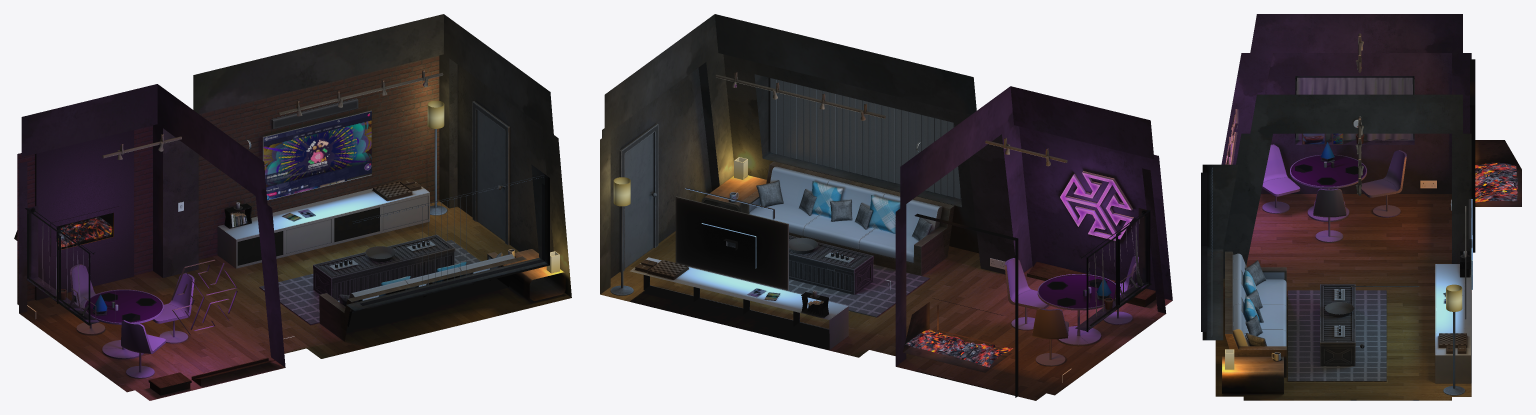
Rendered from StartHome.glb.
3 views of the same model, side by side, from view 1: azimuth 30°, elevation 25°; view 2: azimuth 150°, elevation 25°; view 3: azimuth 270°, elevation 25° (orthographic). The views are drawn at different scales.
Visible parts, largest first — view 1: WallsNEW_8, BrickFinal_17, Floor_New_7, Seat_1, Electrics_2, FinalTable_20, Door_6, Chest_11, TableItemsF_19, Lights_3, PillowsNEW_5, Plane001_21 (+5 smaller); view 2: WallsNEW_8, Floor_New_7, Seat_1, Blinds_13, Electrics_2, FinalTable_20, Door_6, PillowsNEW_5, BrickFinal_17, Lights_3, Chest_11, Chimney_18 (+5 smaller); view 3: WallsNEW_8, Floor_New_7, Seat_1, BrickFinal_17, FinalTable_20, Chimney_18, Curtain_14, Chest_11, TableItemsF_19, PillowsNEW_5, Electrics_2, Lights_3 (+5 smaller).
Boxes of the visible parts, bbox=[...] form: WallsNEW_8: bbox=[19, 14, 571, 367]; BrickFinal_17: bbox=[17, 55, 480, 324]; Floor_New_7: bbox=[17, 201, 571, 400]; Seat_1: bbox=[217, 182, 565, 341]; Electrics_2: bbox=[27, 98, 447, 338]; FinalTable_20: bbox=[70, 264, 194, 378]; Door_6: bbox=[472, 101, 509, 245]; Chest_11: bbox=[313, 234, 455, 300]; TableItemsF_19: bbox=[25, 183, 544, 325]; Lights_3: bbox=[102, 70, 443, 335]; PillowsNEW_5: bbox=[148, 252, 502, 395]; Plane001_21: bbox=[56, 213, 113, 249]; WallsNEW_8: bbox=[600, 14, 1172, 366]; Floor_New_7: bbox=[600, 231, 1172, 400]; Seat_1: bbox=[630, 161, 954, 349]; Blinds_13: bbox=[770, 78, 961, 198]; Electrics_2: bbox=[610, 142, 1071, 382]; FinalTable_20: bbox=[1004, 256, 1138, 366]; Door_6: bbox=[619, 123, 658, 272]; PillowsNEW_5: bbox=[756, 180, 1155, 307]; BrickFinal_17: bbox=[689, 213, 1018, 397]; Lights_3: bbox=[715, 72, 1133, 240]; Chest_11: bbox=[726, 235, 873, 294]; Chimney_18: bbox=[903, 302, 1012, 372]; WallsNEW_8: bbox=[1202, 14, 1471, 340]; Floor_New_7: bbox=[1215, 194, 1471, 400]; Seat_1: bbox=[1222, 251, 1470, 393]; BrickFinal_17: bbox=[1288, 59, 1475, 381]; FinalTable_20: bbox=[1262, 144, 1406, 242]; Chimney_18: bbox=[1475, 140, 1521, 206]; Curtain_14: bbox=[1296, 77, 1413, 140]; Chest_11: bbox=[1320, 284, 1355, 365]; TableItemsF_19: bbox=[1201, 76, 1469, 331]; PillowsNEW_5: bbox=[1243, 260, 1266, 346]; Electrics_2: bbox=[1246, 119, 1472, 395]; Lights_3: bbox=[1225, 33, 1363, 195].
Size of the model in its own units: 8.96 by 3.63 by 5.7.
21 materials, 21 textured.
